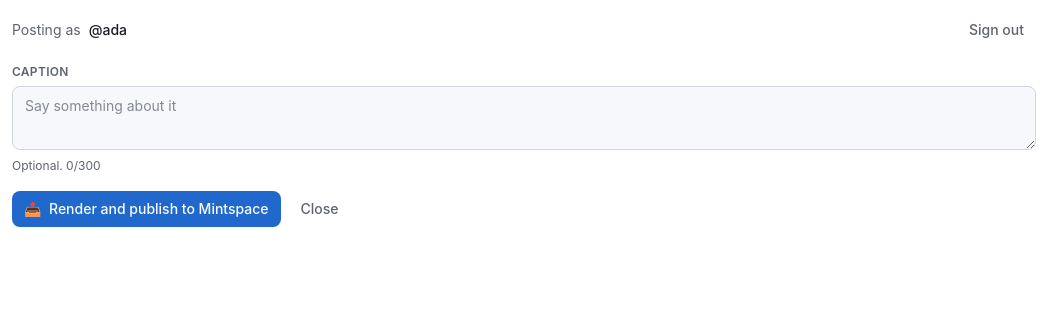
publishing › reports a bucket that will not take the file, and what to change about it
Click the button "📤 Render and publish to Mintspace" at [146, 209], box [12, 191, 281, 227]
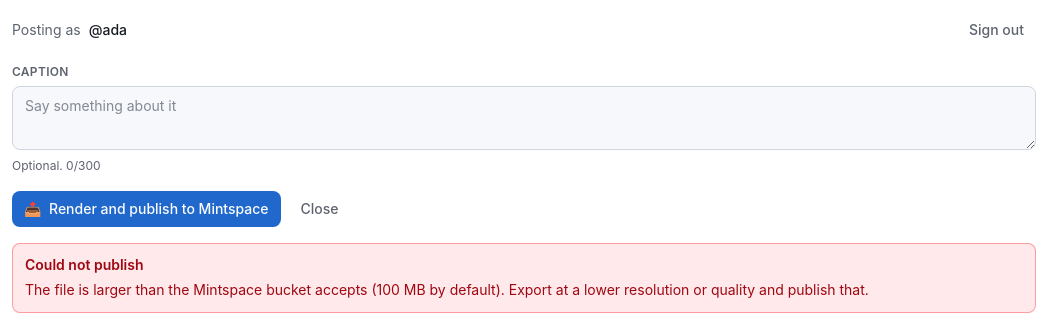
Expected: the text "lower resolution or quality" is shown, [25, 281, 869, 298]
